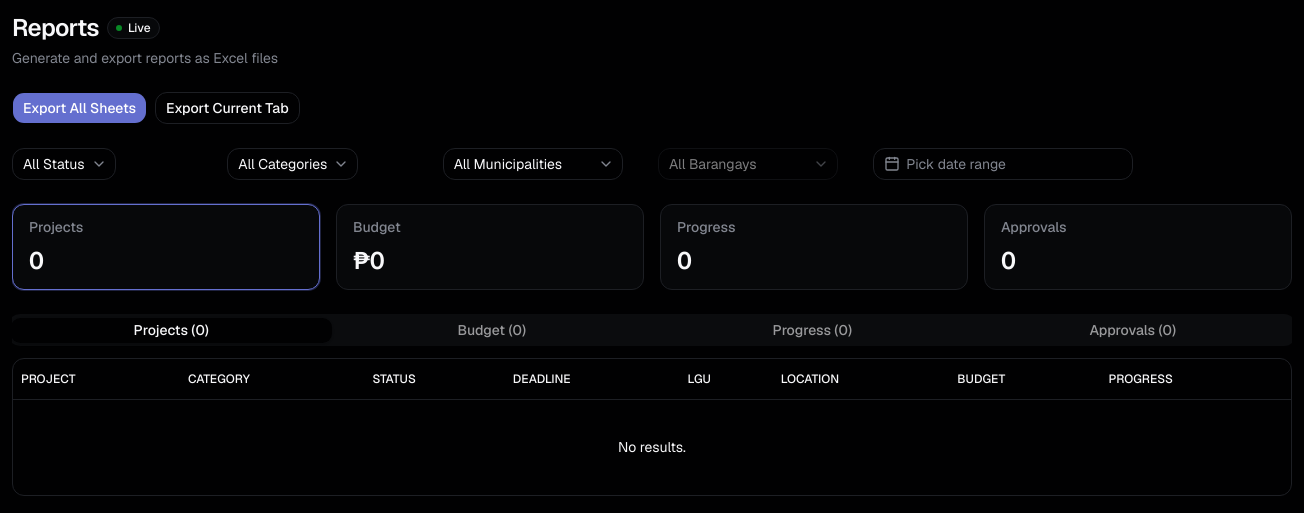
ReportsModule (V12) › loads report status and category filter options from PocketBase fields
Step 1. Click the dropdown named "filter by status" → (64, 164), box [12,148,116,180]
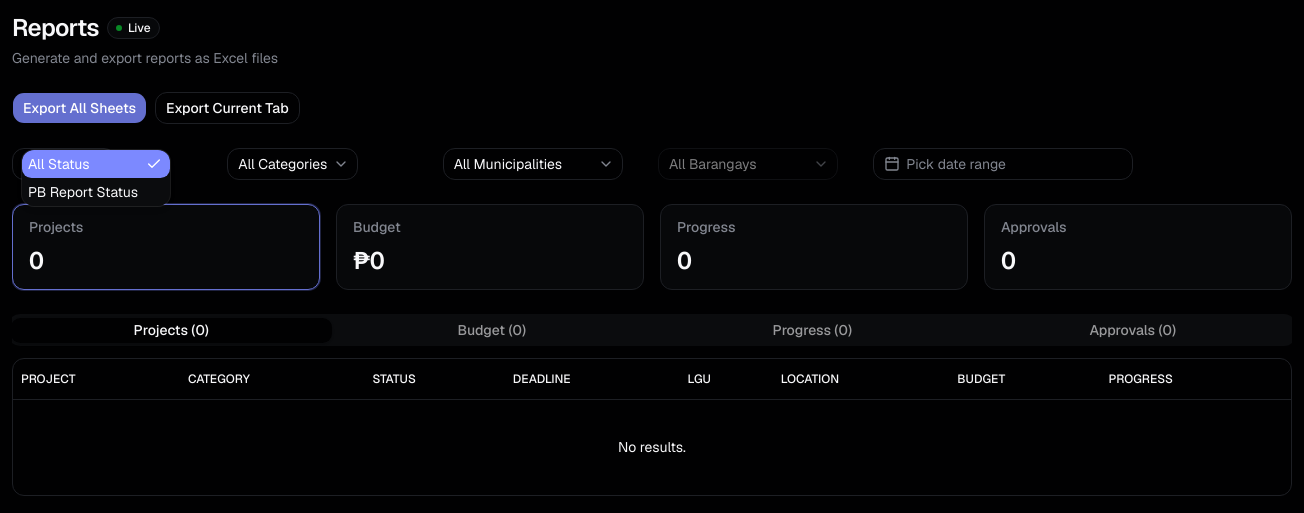
Now the option "PB Report Status" is shown, box [28,183,138,201]
Step 2. Press Escape
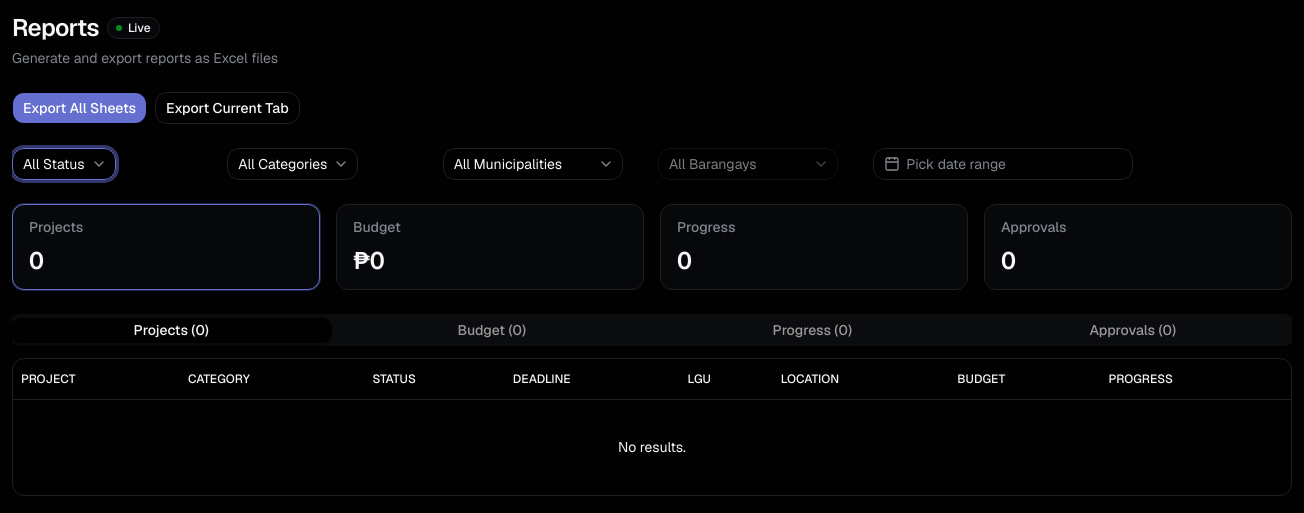
Step 3. Click the dropdown named "filter by category" → (293, 164), box [227,148,358,180]
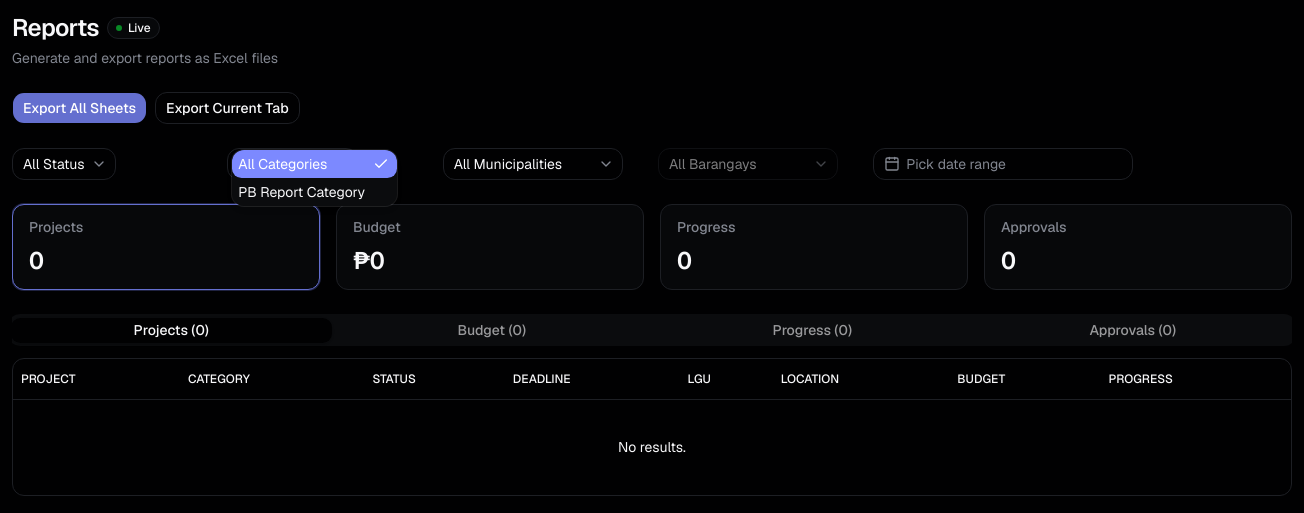
Now the option "PB Report Category" is shown, box [238,183,365,201]
